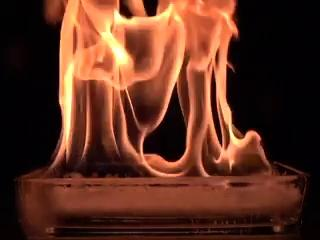Fire: (43, 1, 275, 178)
